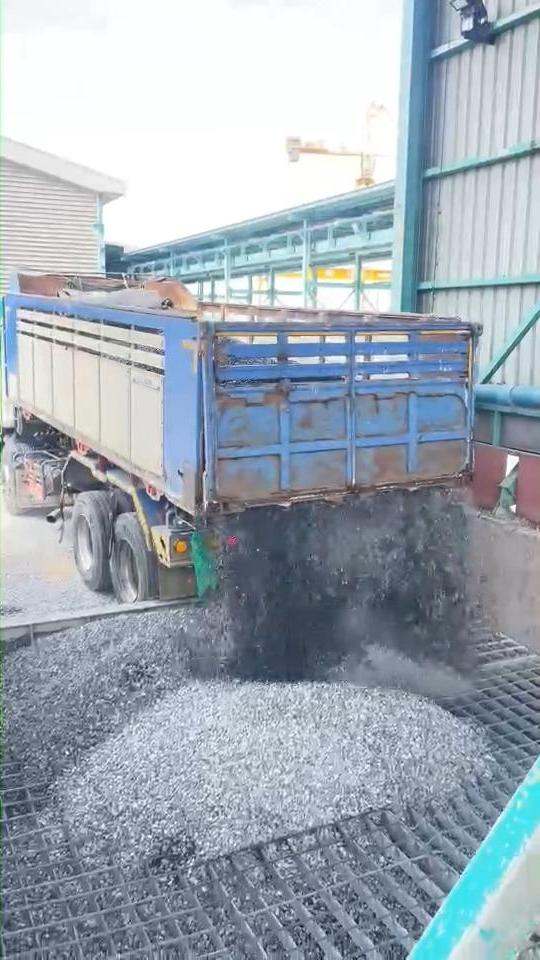gravel: (57, 682, 490, 866), (225, 490, 473, 706), (3, 607, 217, 782)
